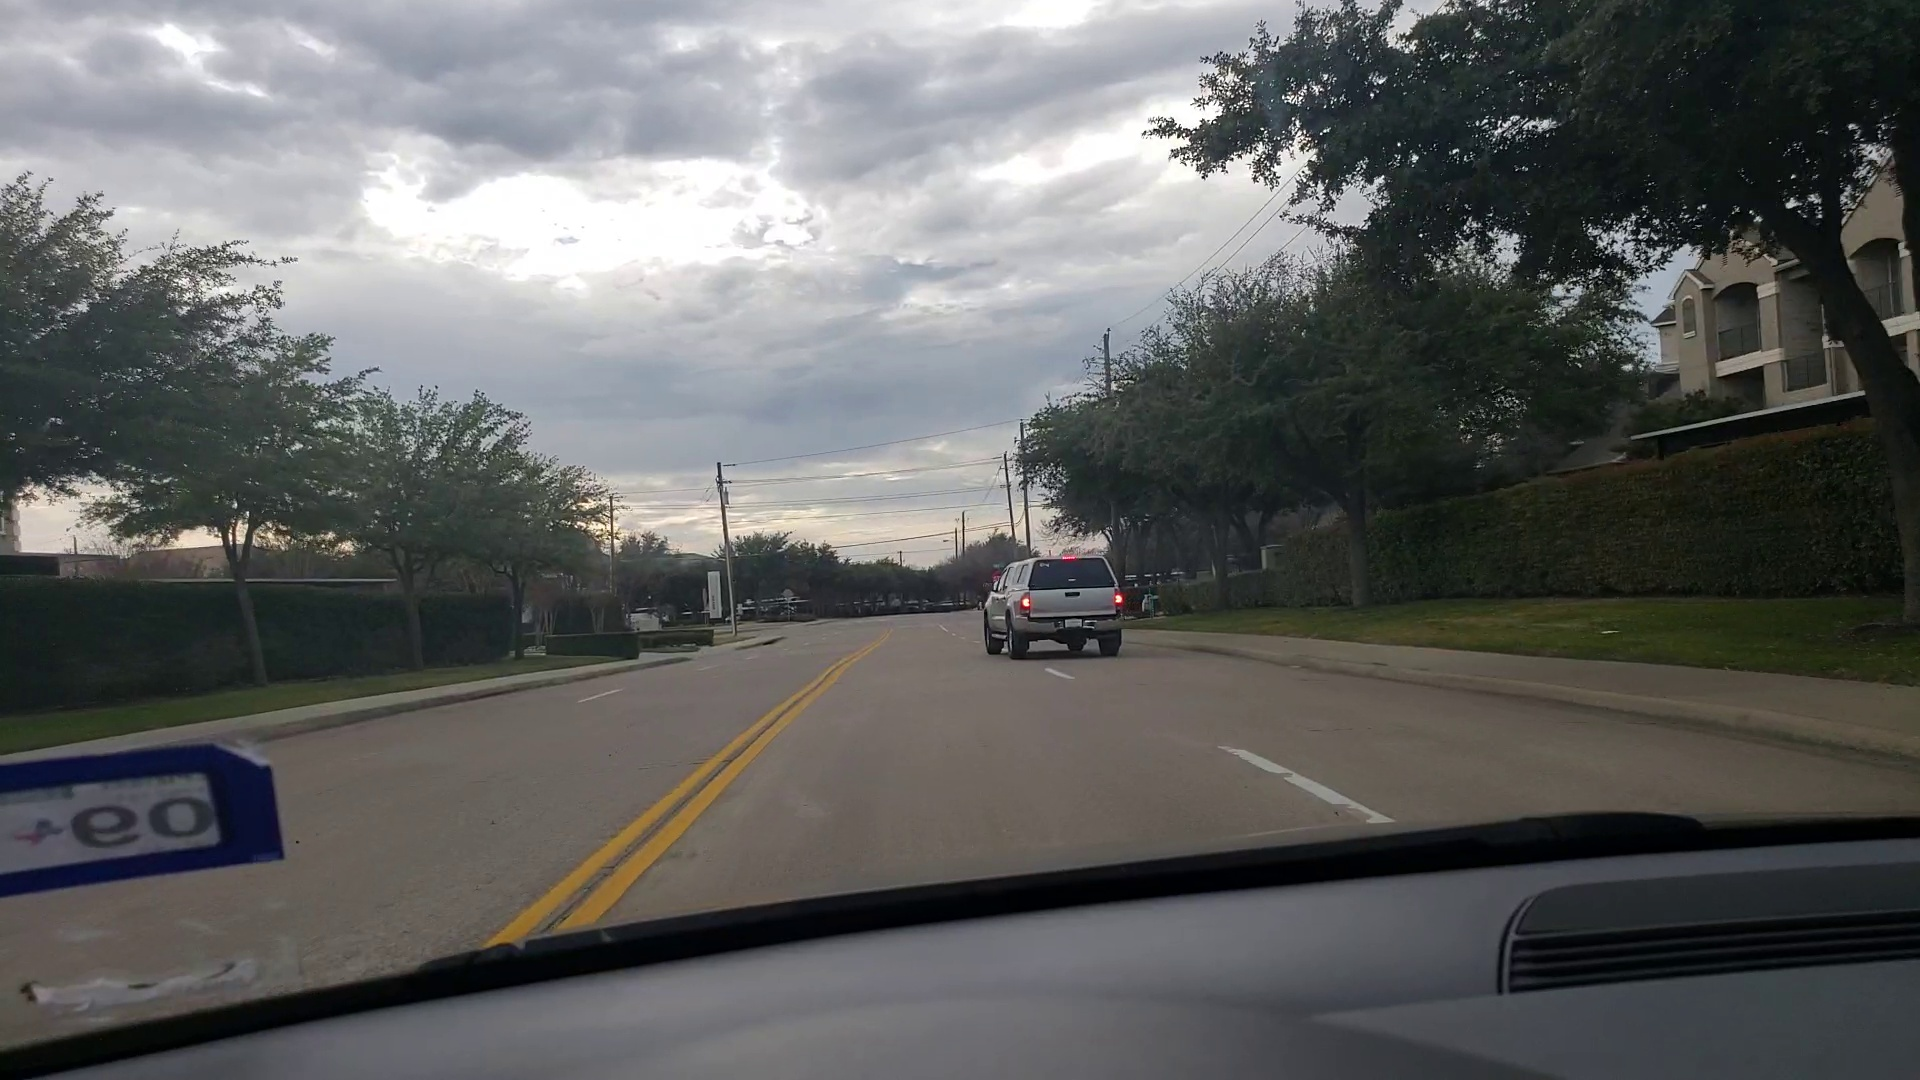truck: (982, 559, 1124, 659)
